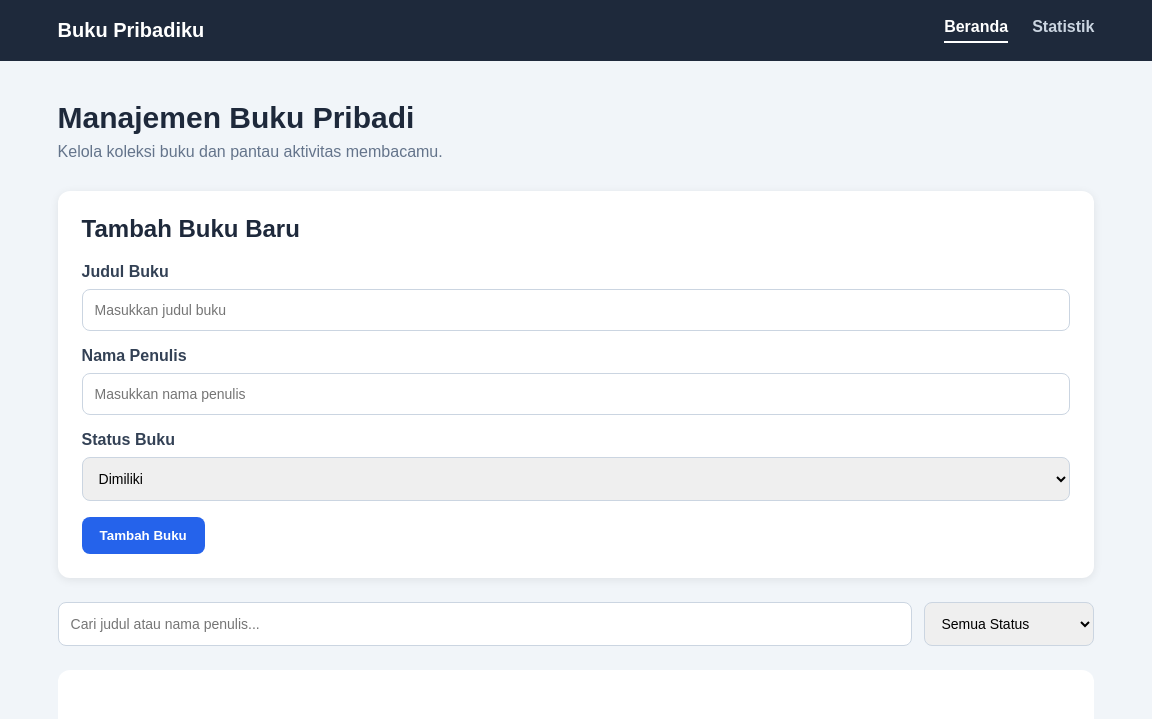
it: Pengujian Aplikasi Manajemen Buku › menampilkan pesan error ketika formulir kosong
Step 1. Click the button "Tambah Buku" → (143, 536), box [82,517,205,554]
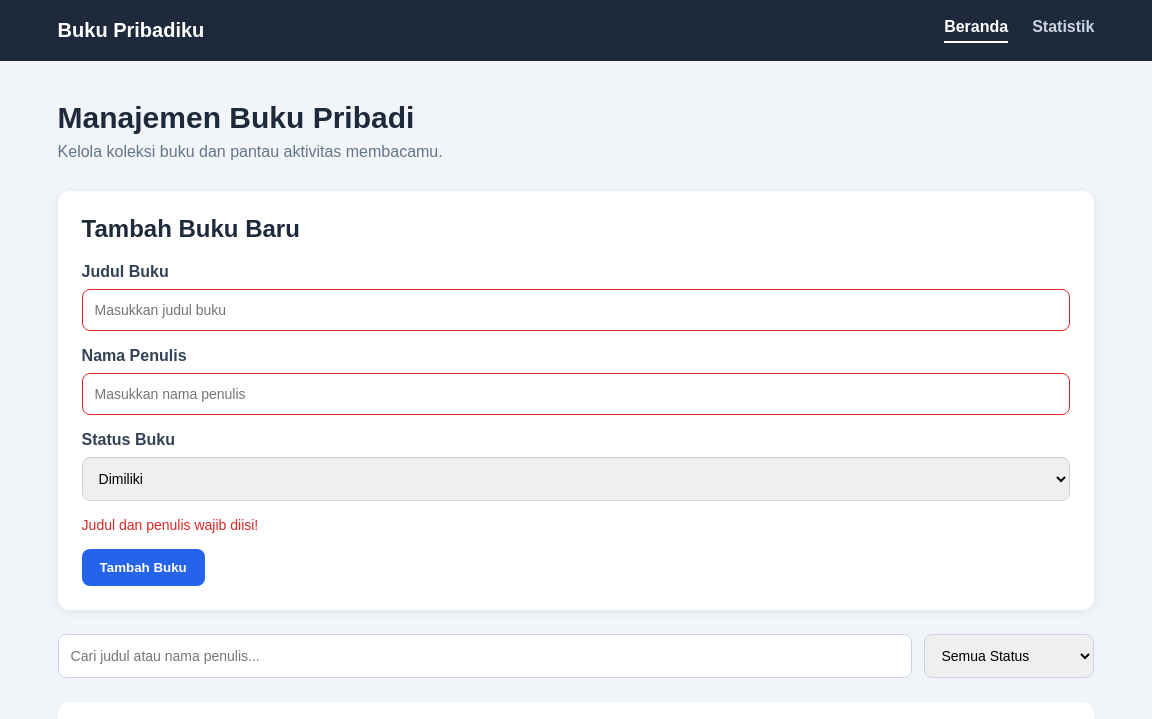
Expected: the text "Judul dan penulis wajib diisi!" is shown, [82,517,258,533]
